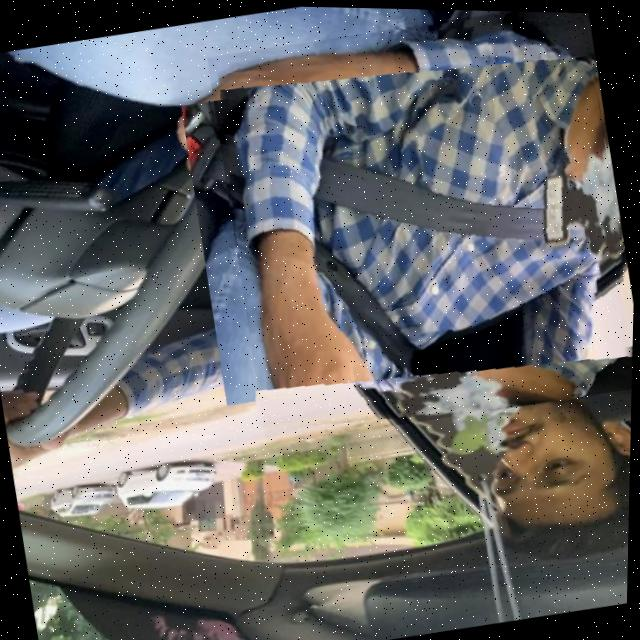seatbelt: (199, 4, 640, 448)
